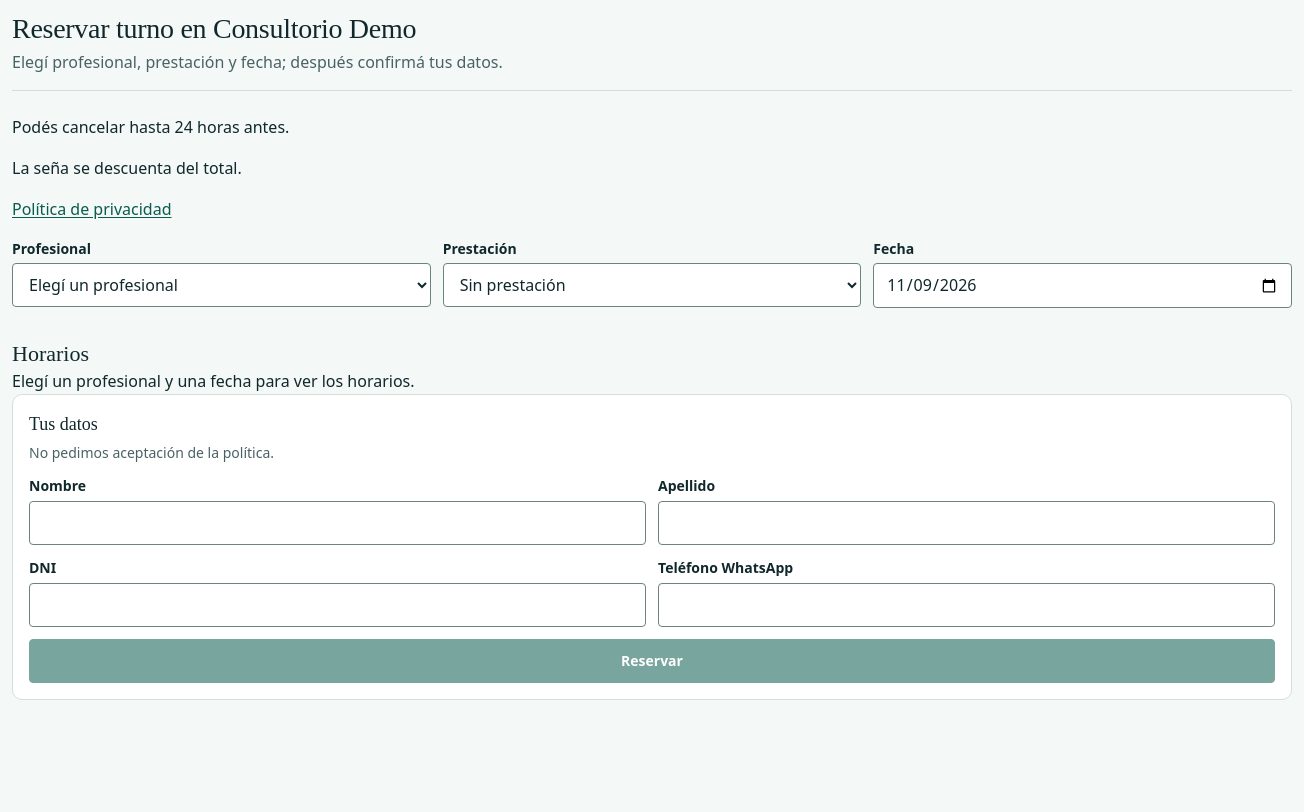
Scenario: ReservaPage › muestra el error de la API tal cual
Select "MP-1 (general)" in the dropdown labelled "Profesional" at (221, 286), box [12, 264, 431, 308]
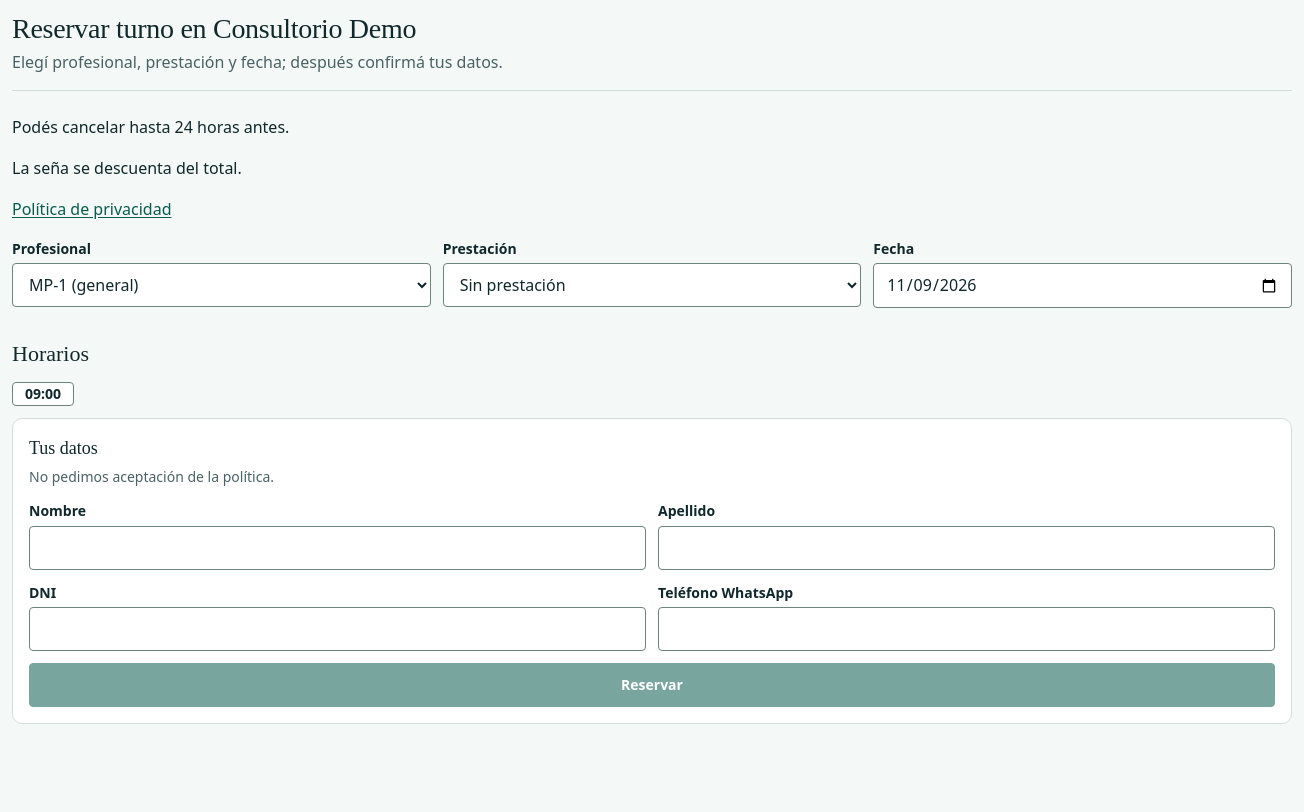
Click the button "09:00" at (43, 394), box [12, 382, 74, 406]
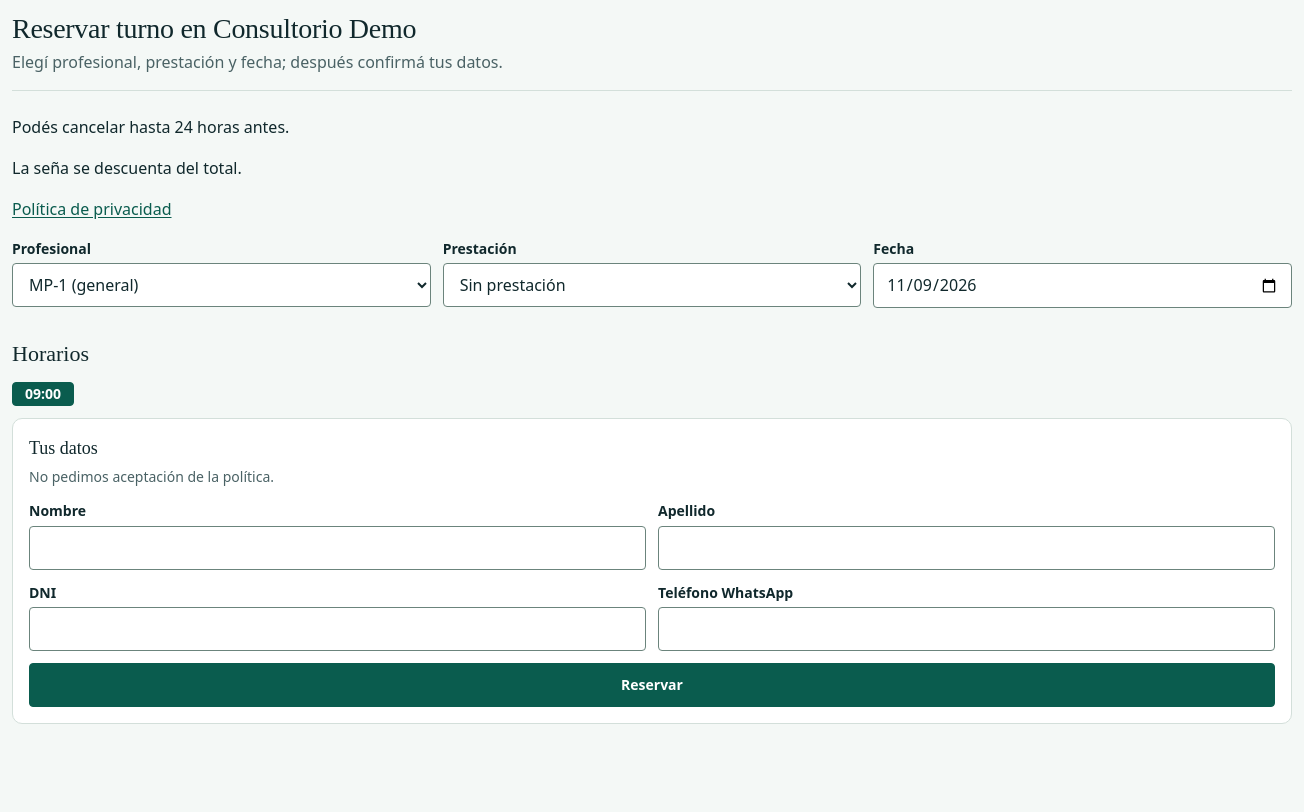
Type "Ana" into the field labelled "Nombre" at (338, 548), box [29, 526, 646, 570]
Type "Demo" into the field labelled "Apellido" at (966, 548), box [658, 526, 1275, 570]
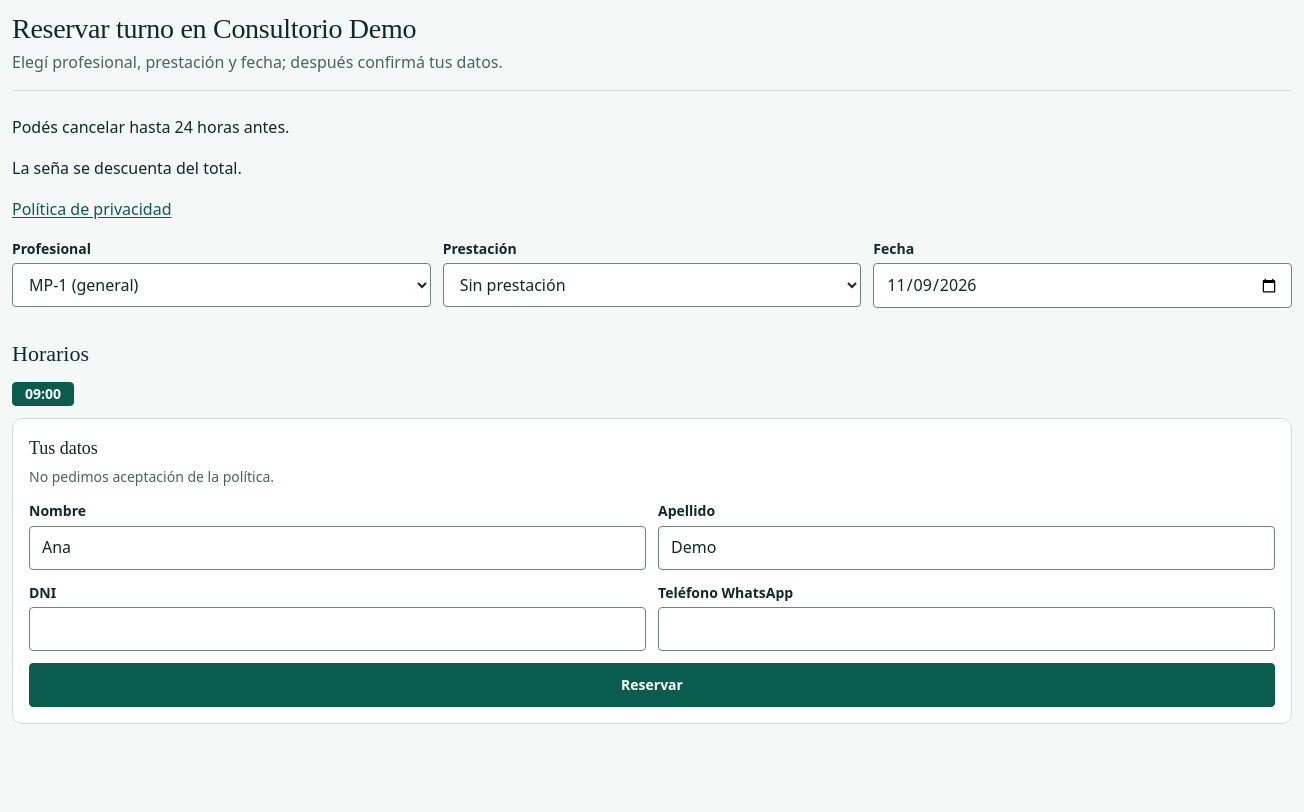
Type "30111222" into the field labelled "DNI" at (338, 629), box [29, 607, 646, 651]
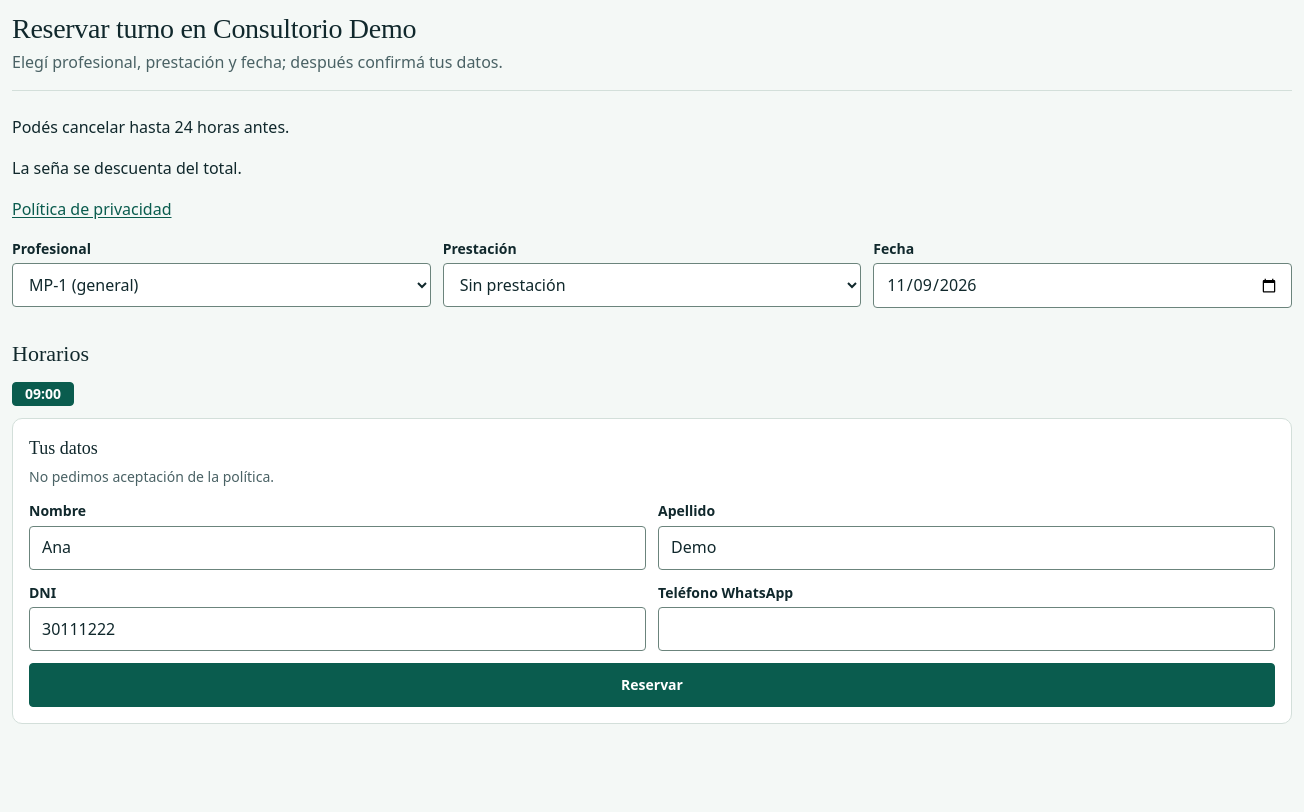
Type "11 5555-1234" into the field labelled "Teléfono WhatsApp" at (966, 629), box [658, 607, 1275, 651]
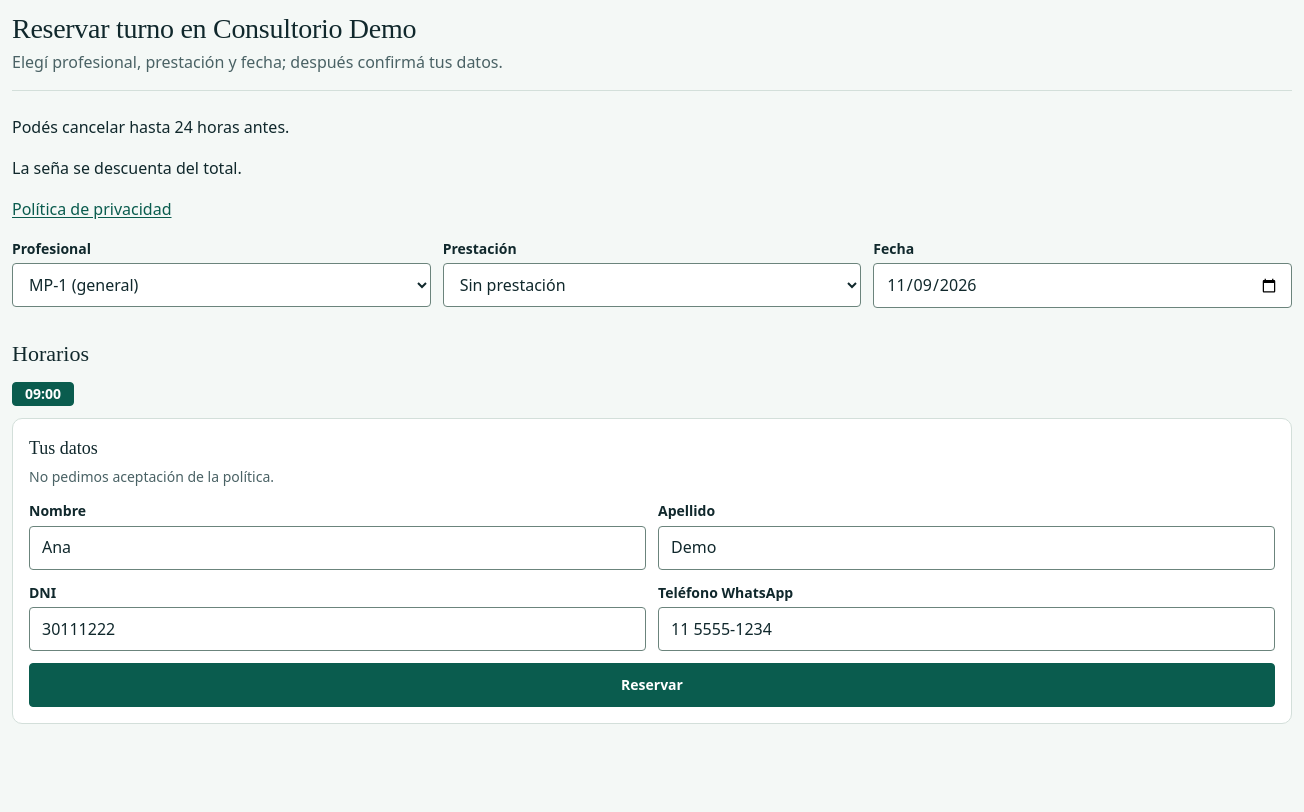
Click the button "Reservar" at (652, 685), box [29, 663, 1275, 707]
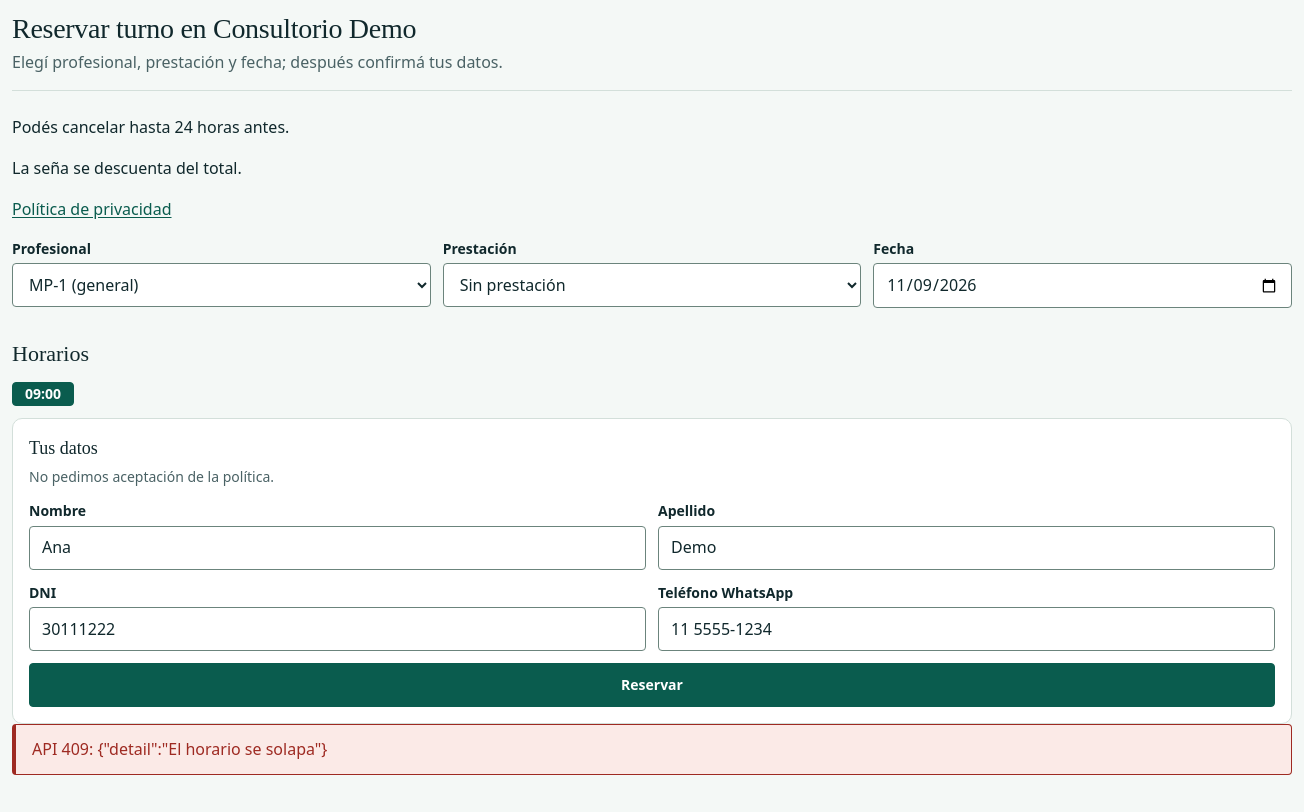
Expected: the message shows "409", [32, 738, 327, 760]
